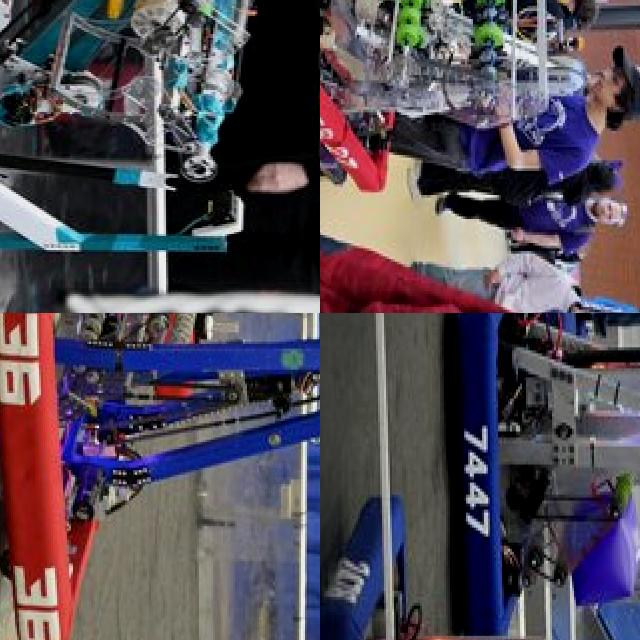FRC-Robots: (0, 313, 320, 640), (0, 0, 294, 294), (428, 313, 640, 640), (320, 0, 617, 149), (320, 557, 640, 640)
